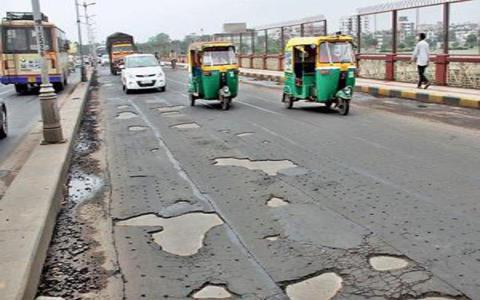patchy roads: (115, 133, 316, 257)
